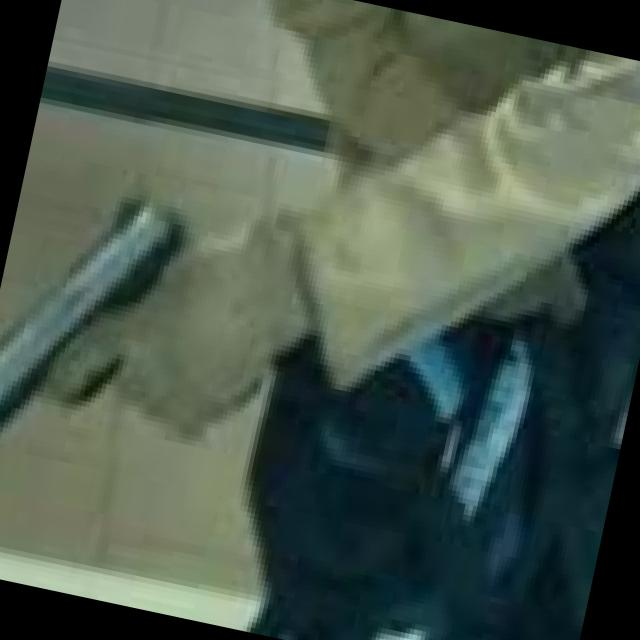Guns: (0, 118, 329, 530)
